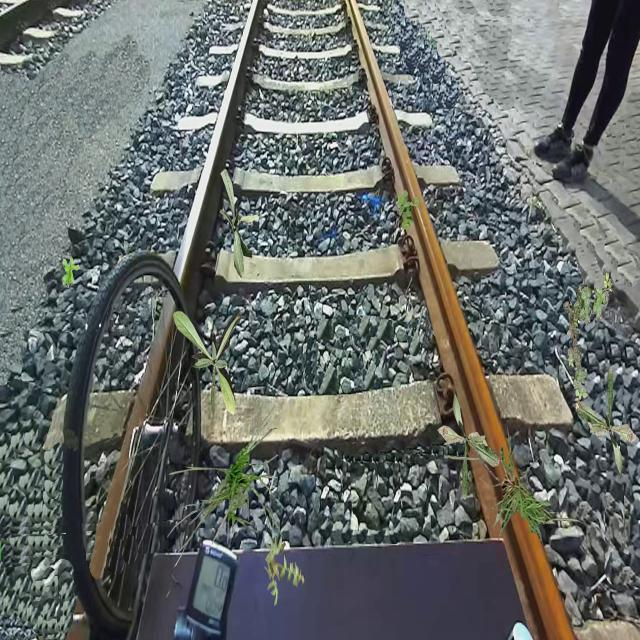Plant: (167, 405, 286, 568), (446, 425, 590, 544), (173, 309, 244, 417), (575, 368, 639, 480), (437, 388, 501, 500), (564, 273, 612, 411), (220, 169, 260, 279), (264, 535, 306, 606), (396, 190, 420, 231), (62, 256, 80, 288)
